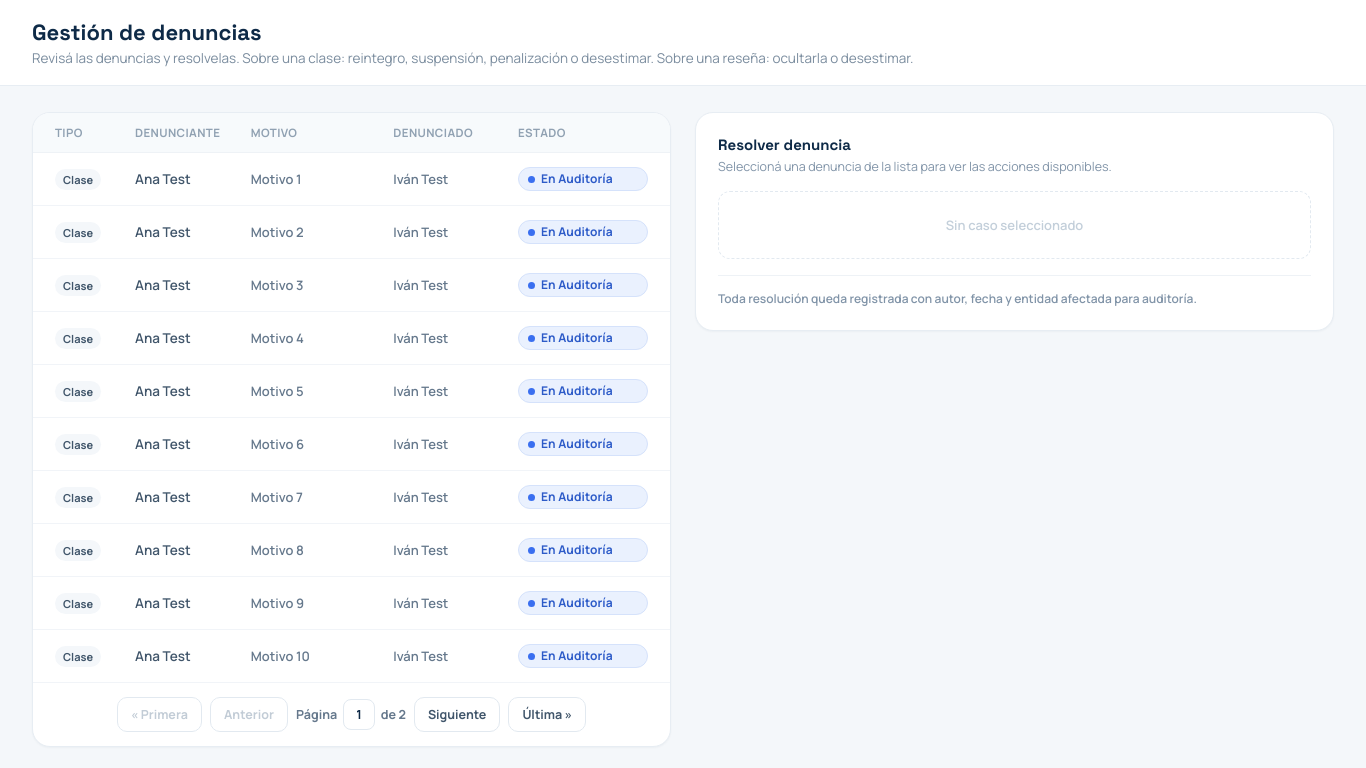
Test: paginación › muestra 10 denuncias por página
Expected: the text "Motivo 1" is shown, [251, 170, 302, 188]
Expected: the text "Motivo 11" is not shown
Click the button "Siguiente". click: coordinates (457, 714)
box: [414, 697, 500, 732]
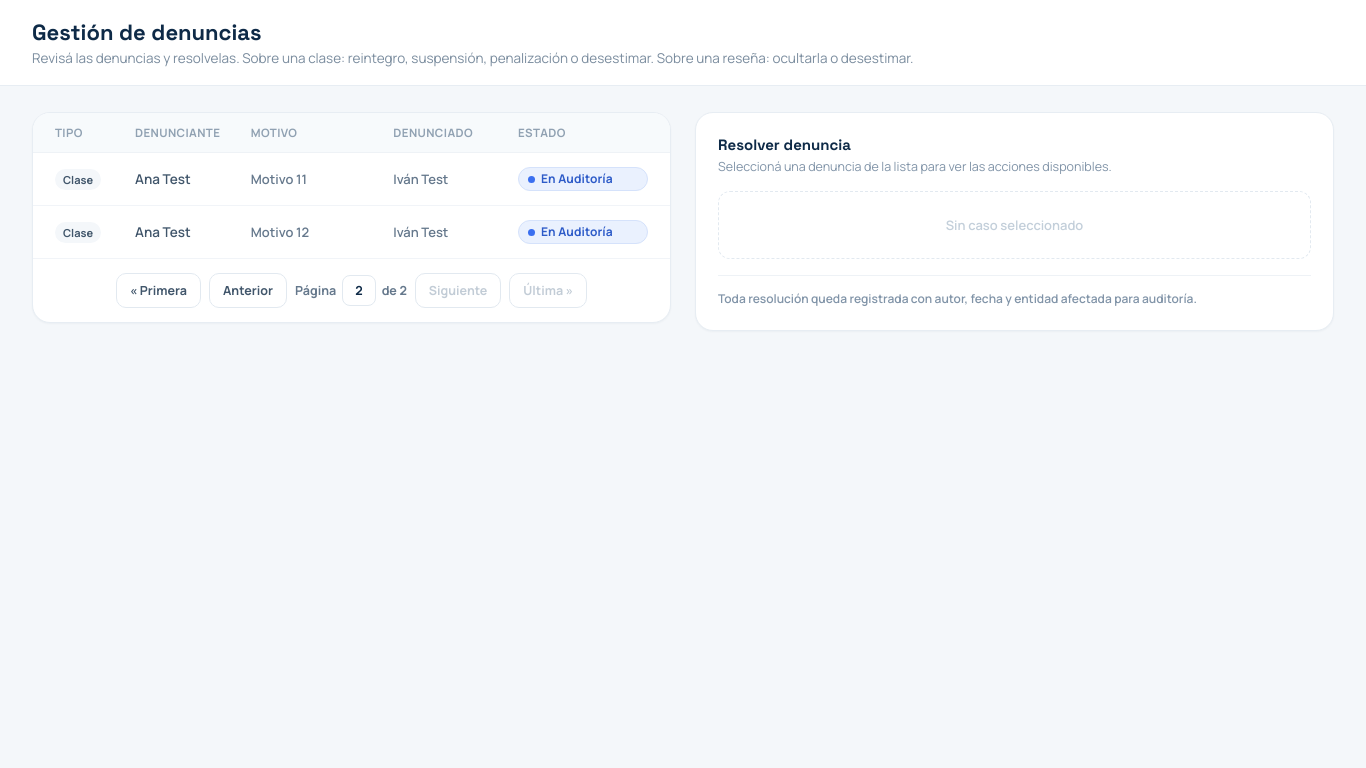
Result: the text "Motivo 11" is shown at [251, 170, 307, 188]
